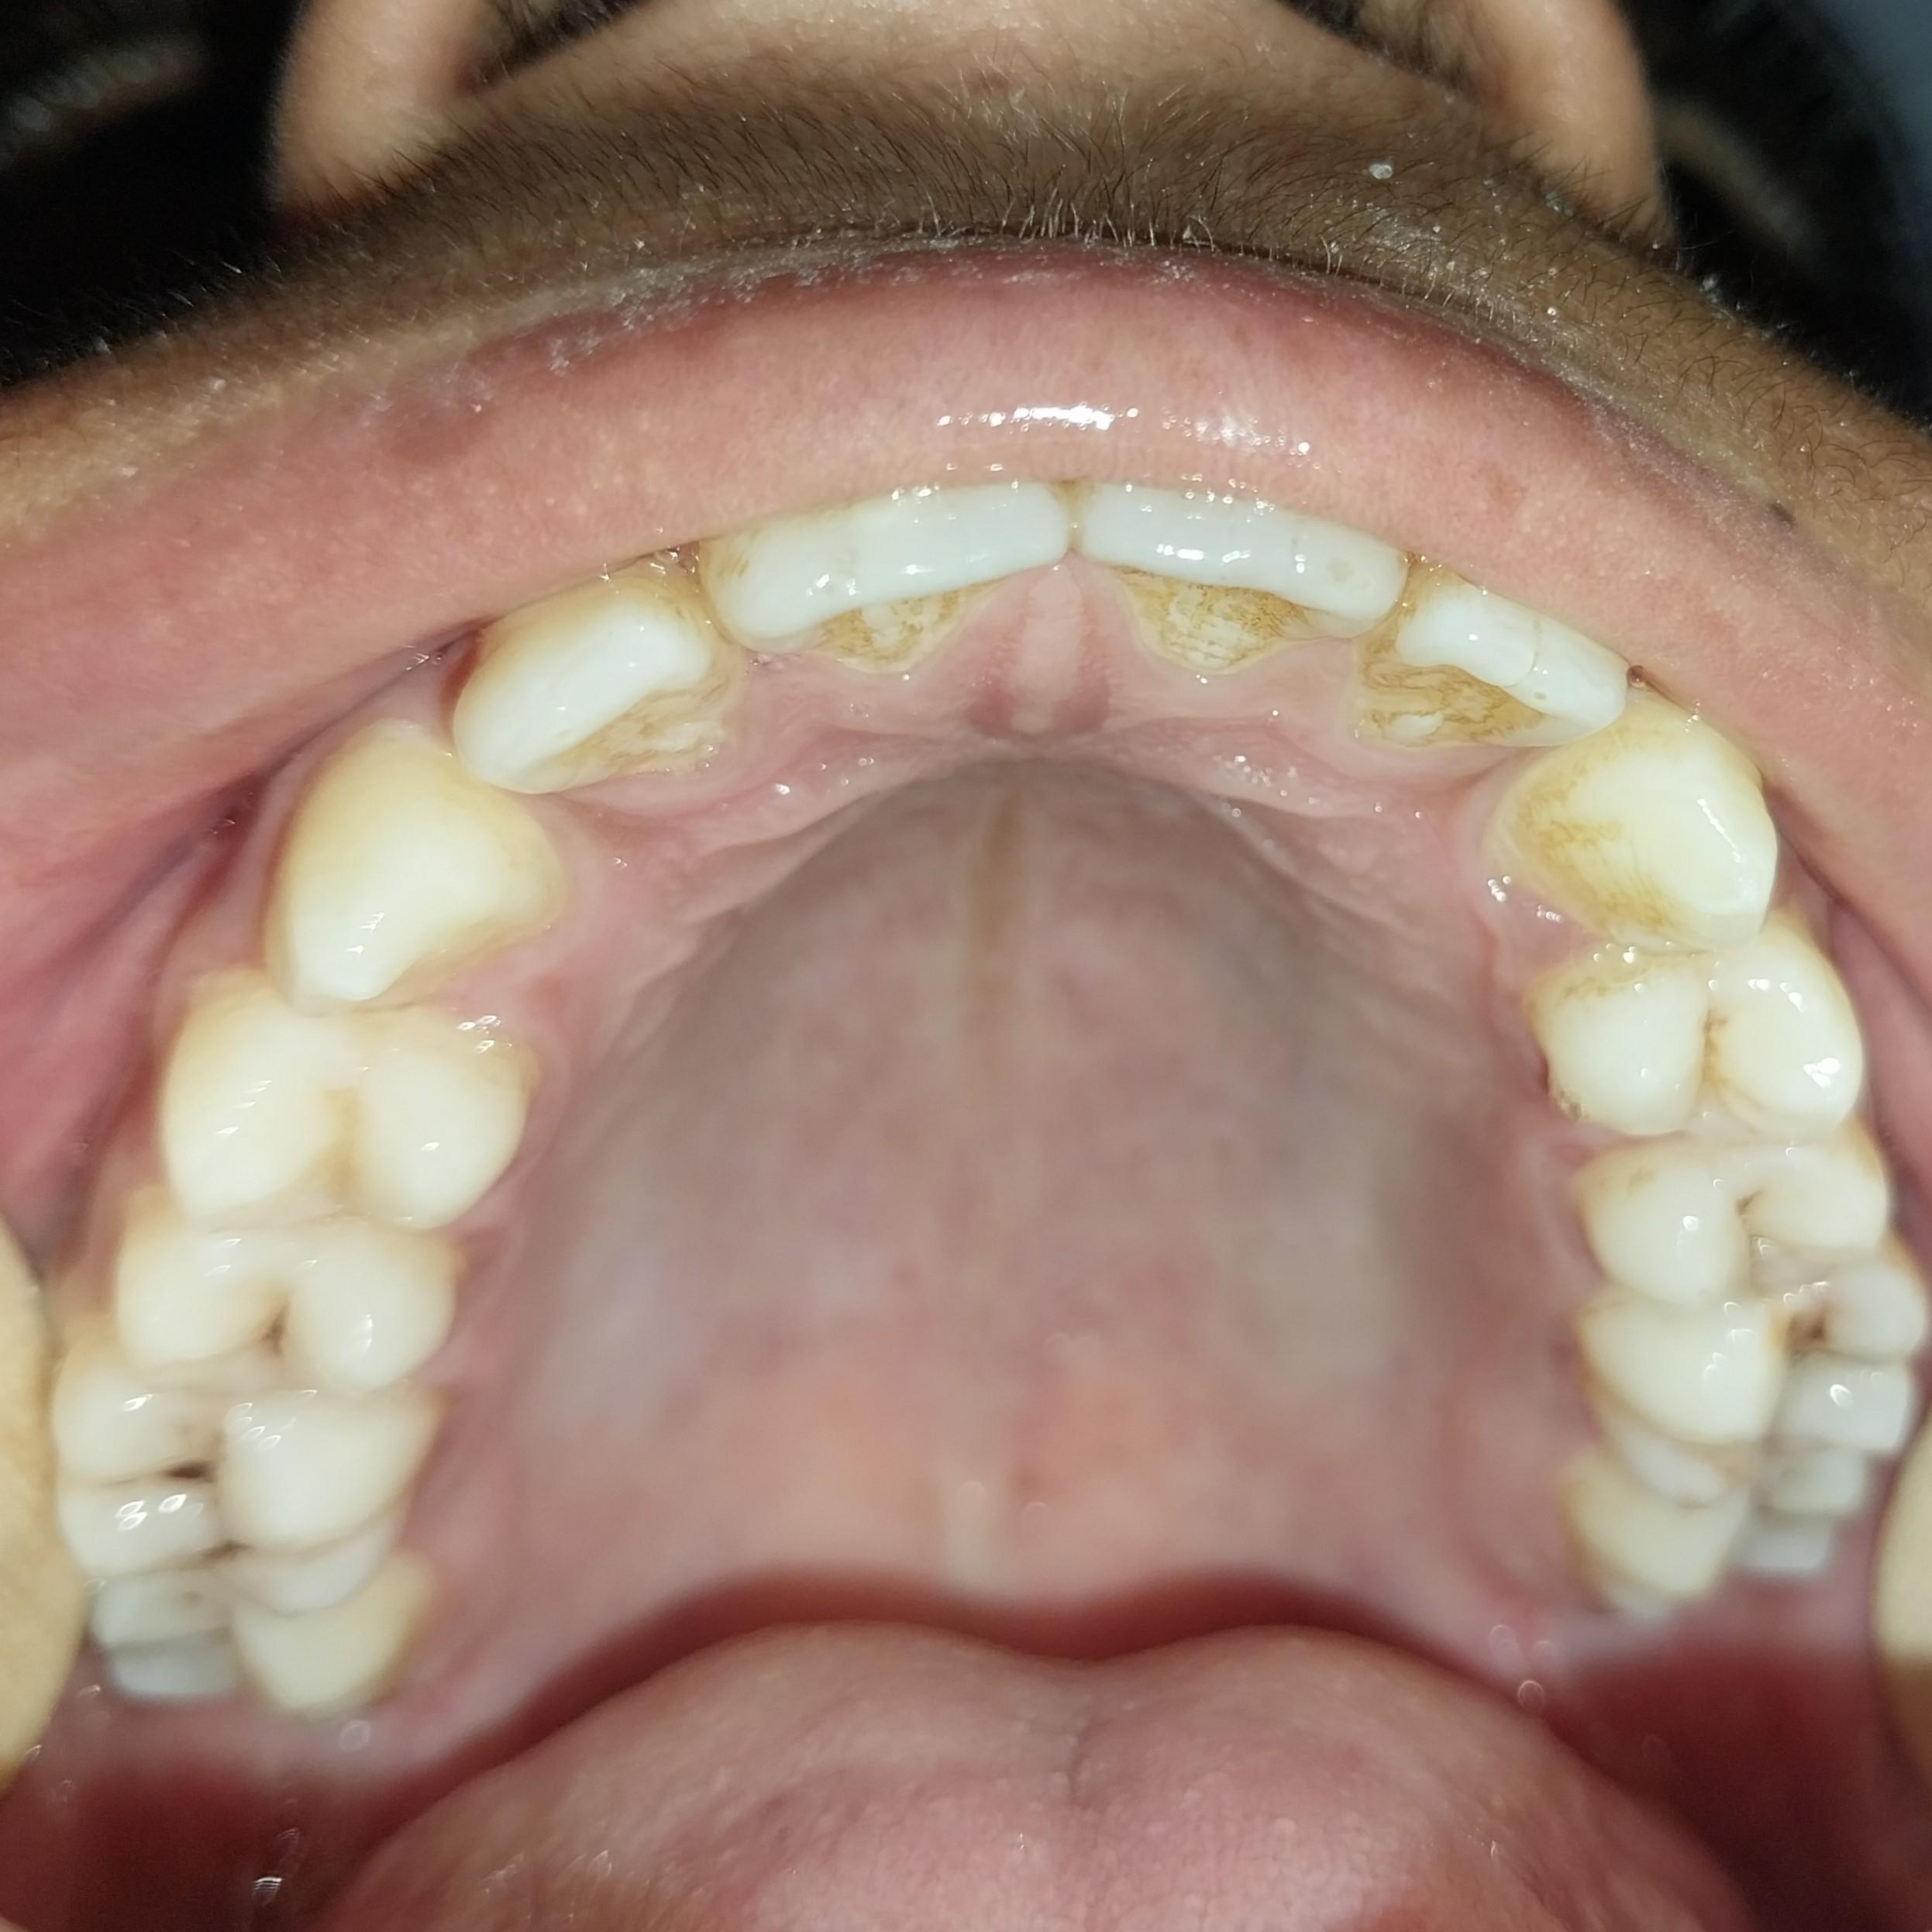D: (44, 1342, 428, 1617), (1565, 1286, 1930, 1527), (102, 1191, 449, 1386), (1577, 1134, 1900, 1300)
